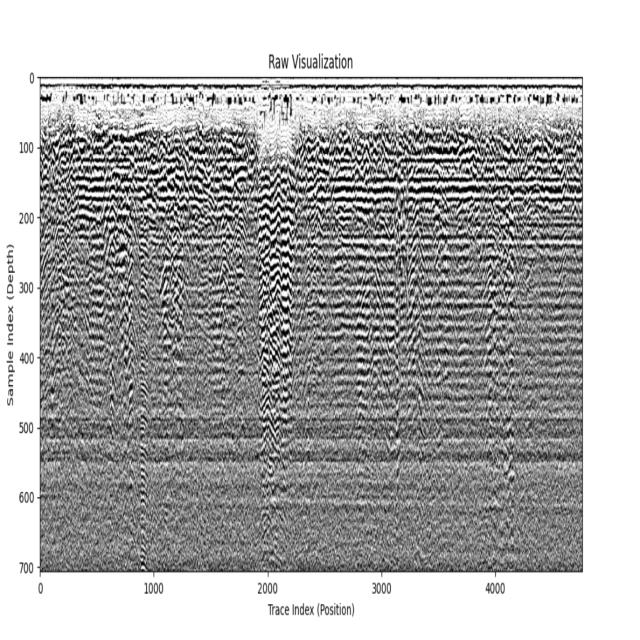anomaly: (484, 208, 520, 548), (257, 170, 294, 482), (104, 168, 136, 410), (397, 334, 432, 437), (351, 249, 393, 334), (159, 248, 186, 359)
